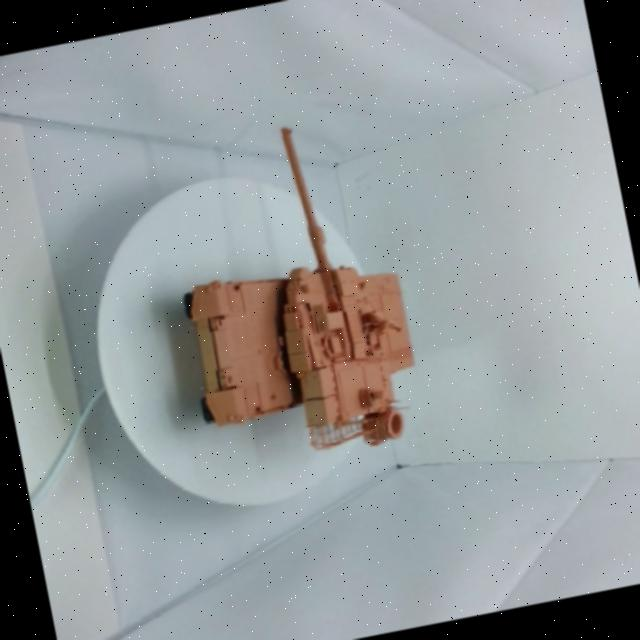korea tank: (115, 90, 478, 518)
